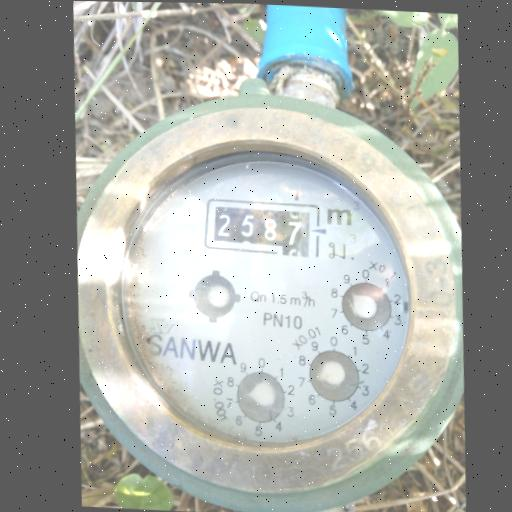2: (211, 204, 238, 243)
5: (231, 205, 261, 245)
7: (280, 209, 312, 257)
8: (256, 208, 286, 246)
border_water_meter_number: (201, 196, 322, 257)
